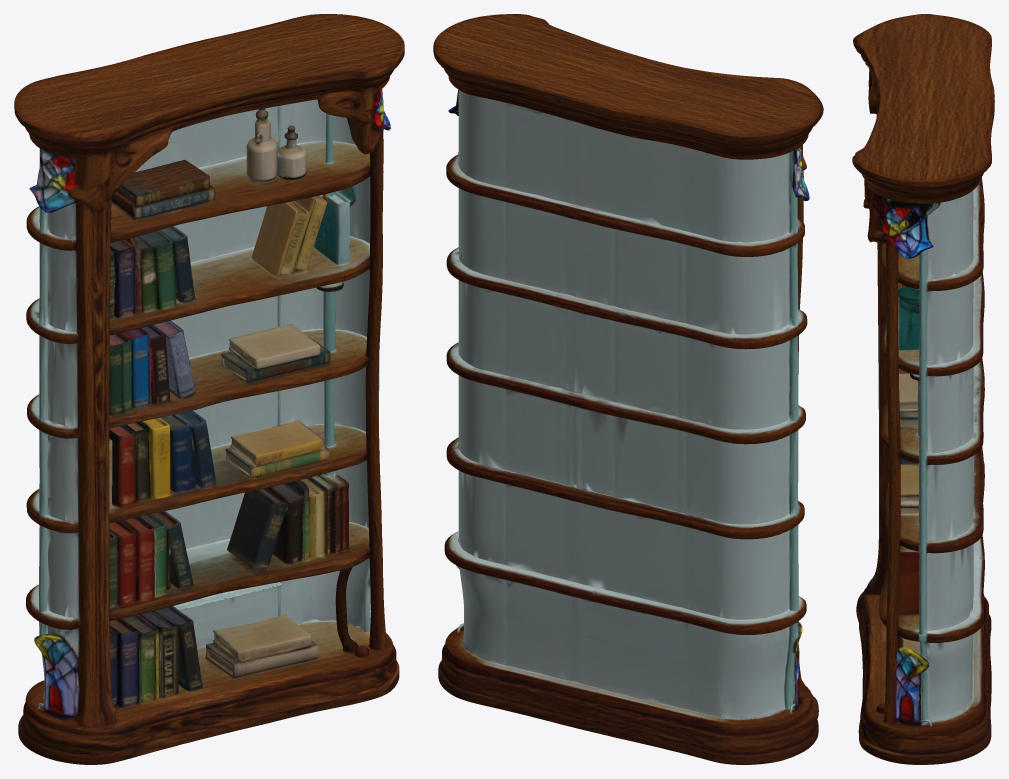
The model's file is art-nouveau-bookshelf-3.glb.
3 renders of one model, left to right at view 1: azimuth 30°, elevation 25°; view 2: azimuth 150°, elevation 25°; view 3: azimuth 270°, elevation 25°, orthographic. The views are drawn at different scales.
Visible parts, largest first — view 1: tripo_node_a09189c9-428e-48e2-af2b-d46cc14392d6; view 2: tripo_node_a09189c9-428e-48e2-af2b-d46cc14392d6; view 3: tripo_node_a09189c9-428e-48e2-af2b-d46cc14392d6.
Part boxes in pixels (left/top/right/bottom): tripo_node_a09189c9-428e-48e2-af2b-d46cc14392d6: left=14, top=14, right=404, bottom=764; tripo_node_a09189c9-428e-48e2-af2b-d46cc14392d6: left=433, top=14, right=823, bottom=764; tripo_node_a09189c9-428e-48e2-af2b-d46cc14392d6: left=852, top=14, right=994, bottom=764.
Size of the model in its own units: 0.6021 by 0.98 by 0.2159.
1 material, 1 textured.
